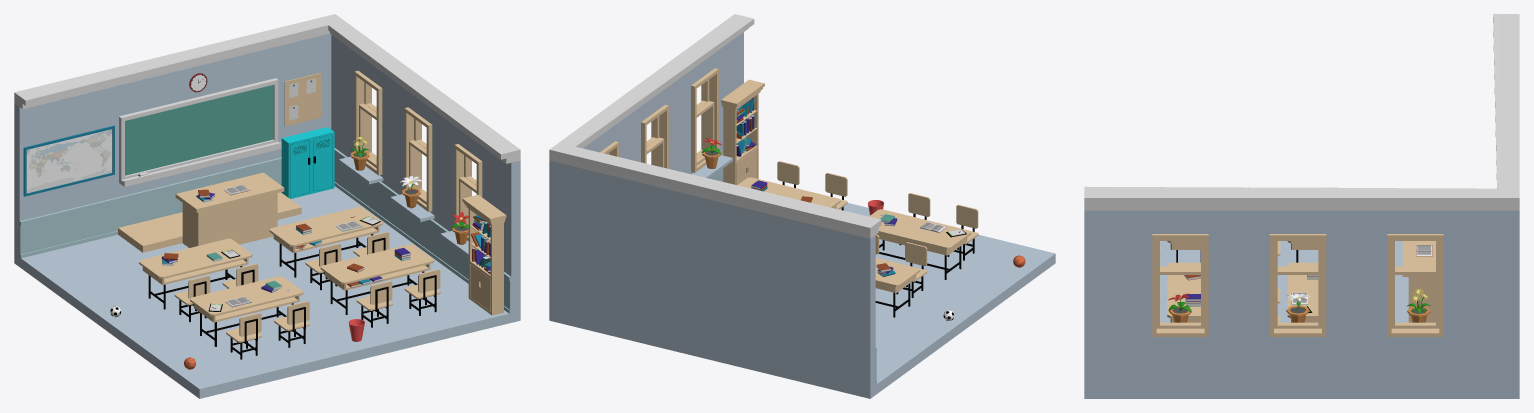
File: Lowpoly_Cartoon_Classroom.fbx
3 views of the same model, side by side, from view 1: azimuth 30°, elevation 25°; view 2: azimuth 150°, elevation 25°; view 3: azimuth 270°, elevation 25° (orthographic). The views are drawn at different scales.
Visible parts, largest first — view 1: Classroom, Blackboard, Teacher_Table, World_Map, Locker, Bookcase, Desk.001, Desk.002, Desk.003, Desk, Teaching_Platform, Window_Frame_Out_A (+12 smaller); view 2: Classroom, Bookcase, Desk.003, Window_Frame_Out_C, Desk.001, Window_Frame_Out_B, Desk.002, Chair.003, Chair.007, Chair.005, Window_Frame_In_Big_C, Chair.006 (+1 smaller); view 3: Classroom, Window_Frame_Out_B, Window_Frame_Out_C, Window_Frame_Out_A, Teacher_Table, Desk.002, Desk, Window_Frame_In_Big_C, Window_Frame_In_Big_A, Window_Frame_In_Big_B, Window_Frame_In_Small_C, Window_Frame_In_Small_A (+1 smaller).
Part boxes in pixels (<box>): Classroom: <box>14,14,520,398</box>; Blackboard: <box>119,78,281,186</box>; Teacher_Table: <box>175,172,284,247</box>; World_Map: <box>23,125,114,196</box>; Locker: <box>281,127,334,198</box>; Bookcase: <box>462,194,506,315</box>; Desk.001: <box>139,238,252,309</box>; Desk.002: <box>320,244,434,314</box>; Desk.003: <box>190,276,303,346</box>; Desk: <box>269,207,382,277</box>; Teaching_Platform: <box>118,192,301,252</box>; Window_Frame_Out_A: <box>354,70,382,175</box>; Classroom: <box>549,14,1055,398</box>; Bookcase: <box>721,79,764,184</box>; Desk.003: <box>869,209,971,279</box>; Window_Frame_Out_C: <box>691,68,718,172</box>; Desk.001: <box>875,257,920,317</box>; Window_Frame_Out_B: <box>641,105,668,168</box>; Desk.002: <box>737,177,840,208</box>; Chair.003: <box>896,242,927,297</box>; Chair.007: <box>947,204,978,260</box>; Chair.005: <box>825,172,847,210</box>; Window_Frame_In_Big_C: <box>696,101,714,165</box>; Chair.006: <box>899,193,930,245</box>; Classroom: <box>1084,14,1519,398</box>; Window_Frame_Out_B: <box>1269,234,1326,336</box>; Window_Frame_Out_C: <box>1152,234,1208,336</box>; Window_Frame_Out_A: <box>1387,234,1443,336</box>; Teacher_Table: <box>1402,241,1435,322</box>; Desk.002: <box>1167,262,1200,322</box>; Desk: <box>1287,262,1318,322</box>; Window_Frame_In_Big_C: <box>1156,266,1204,328</box>; Window_Frame_In_Big_A: <box>1391,266,1439,328</box>; Window_Frame_In_Big_B: <box>1274,266,1321,328</box>; Window_Frame_In_Small_C: <box>1156,239,1204,274</box>; Window_Frame_In_Small_A: <box>1391,239,1439,274</box>.
Size of the model in its own units: 747 by 377 by 742.
